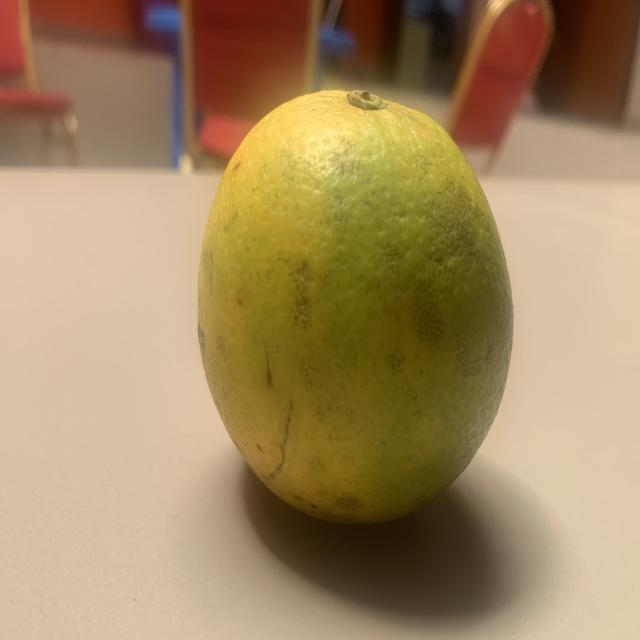Ripe orange: (191, 85, 519, 531)
